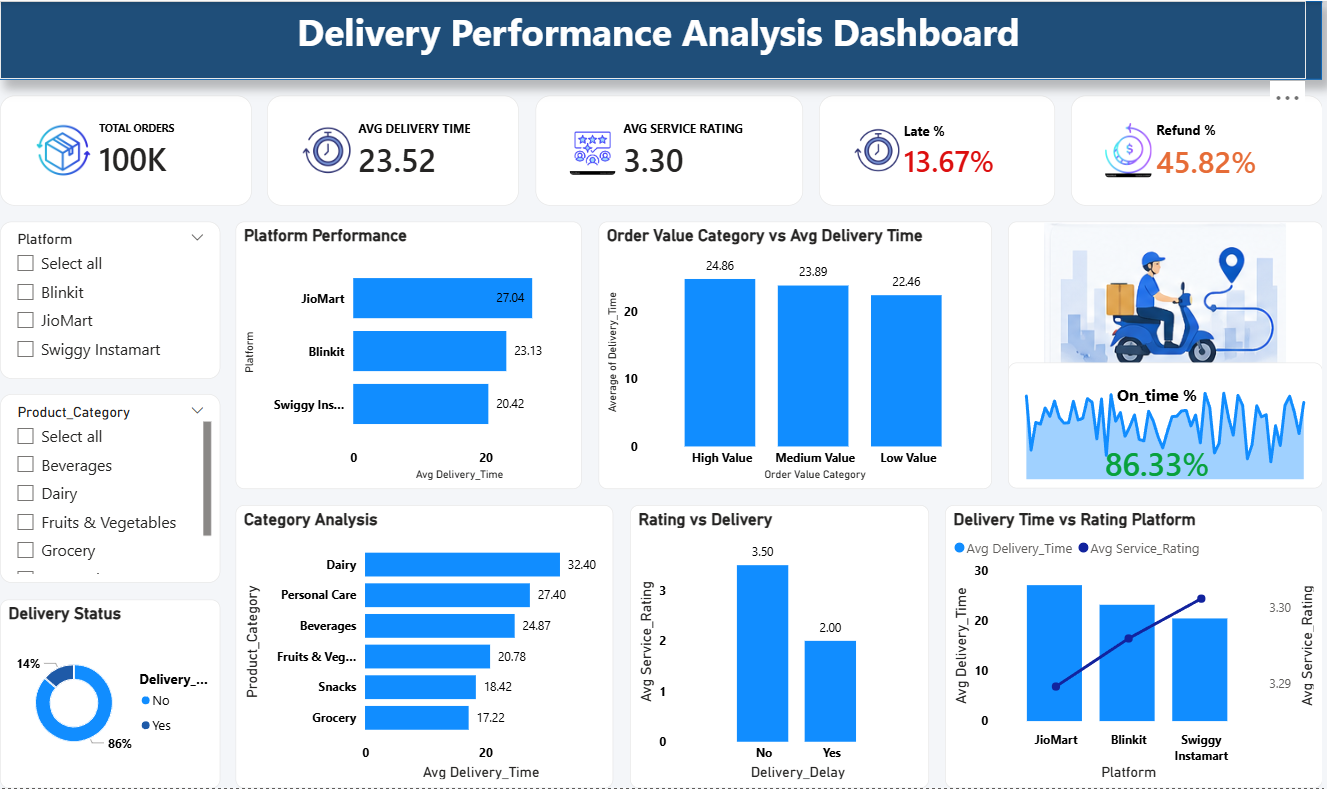

What the dashboard file says about the page in this screenshot:
{"tool":"powerbi","page":{"name":"Page 1","canvas":[1350,800],"ordinal":0},"visuals":[{"type":"cardVisual","fields":{"Data":["Count(cleaned_data_delivery.Order_ID)"]},"box":[0,96,256,112],"z":0},{"type":"cardVisual","fields":{"Data":["Avg(cleaned_data_delivery.Delivery_Time)"]},"box":[272,96,256,112],"z":1000},{"type":"cardVisual","fields":{"Data":["Avg(cleaned_data_delivery.Service_Rating)"]},"box":[544,96,272,112],"z":2000},{"type":"cardVisual","fields":{"Data":["cleaned_data_delivery.Late %"]},"box":[832,96,240,112],"z":3000},{"type":"cardVisual","fields":{"Data":["cleaned_data_delivery.Refund %"]},"box":[1088,96,256,112],"z":4000},{"type":"barChart","title":"Platform Performance","fields":{"Category":["cleaned_data_delivery.Platform"],"Y":["Avg(cleaned_data_delivery.Delivery_Time)"]},"box":[240,224,352,272],"z":5000},{"type":"donutChart","title":"Delivery Status","fields":{"Category":["cleaned_data_delivery.Delivery_Delay"],"Y":["Count(cleaned_data_delivery.Order_ID)"]},"box":[0,608,224,192],"z":6000},{"type":"barChart","title":"Category Analysis","fields":{"Category":["cleaned_data_delivery.Product_Category"],"Y":["Avg(cleaned_data_delivery.Delivery_Time)"]},"box":[240,512,384,288],"z":7000},{"type":"clusteredColumnChart","title":"Rating vs Delivery","fields":{"Category":["cleaned_data_delivery.Delivery_Delay"],"Y":["Avg(cleaned_data_delivery.Service_Rating)"]},"box":[640,512,304,288],"z":8000},{"type":"slicer","fields":{"Values":["cleaned_data_delivery.Platform"]},"box":[0,224,224,160],"z":9000},{"type":"slicer","fields":{"Values":["cleaned_data_delivery.Product_Category"]},"box":[0,400,224,192],"z":10000},{"type":"lineClusteredColumnComboChart","title":"Delivery Time vs Rating Platform","fields":{"Category":["cleaned_data_delivery.Platform"],"Y":["Avg(cleaned_data_delivery.Delivery_Time)"],"Y2":["Avg(cleaned_data_delivery.Service_Rating)"]},"box":[960,512,384,288],"z":12000},{"type":"image","box":[1024,224,320,160],"z":13000},{"type":"lineChart","fields":{"Y":["cleaned_data_delivery.On_time %"],"Category":["cleaned_data_delivery.Order_Date_and_Time"]},"box":[1024,368,320,128],"z":14000},{"type":"cardVisual","fields":{"Data":["cleaned_data_delivery.On_time %"]},"box":[1104,384,144,112],"z":15000},{"type":"shape","box":[0,0,1344,80],"z":16000},{"type":"textbox","box":[0,0,1328,80],"z":17000},{"type":"clusteredColumnChart","title":"Order Value Category vs Avg Delivery Time","fields":{"Y":["Avg(cleaned_data_delivery.Delivery_Time)"],"Category":["cleaned_data_delivery.Order Value Category"]},"box":[608,224,400,272],"z":17001}]}

Visuals, with their boxes in screenshot pixels (x1, y1, x2, y2), scaled from the page's 1350x800 canvas onto the 1327x789 screenshot:
cardVisual - Count(cleaned_data_delivery.Order_ID): select_region(0, 95, 252, 205)
cardVisual - Avg(cleaned_data_delivery.Delivery_Time): select_region(267, 95, 519, 205)
cardVisual - Avg(cleaned_data_delivery.Service_Rating): select_region(535, 95, 802, 205)
cardVisual - cleaned_data_delivery.Late %: select_region(818, 95, 1054, 205)
cardVisual - cleaned_data_delivery.Refund %: select_region(1069, 95, 1321, 205)
"Platform Performance" barChart: select_region(236, 221, 582, 489)
"Delivery Status" donutChart: select_region(0, 600, 220, 788)
"Category Analysis" barChart: select_region(236, 505, 613, 788)
"Rating vs Delivery" clusteredColumnChart: select_region(629, 505, 928, 788)
slicer - cleaned_data_delivery.Platform: select_region(0, 221, 220, 379)
slicer - cleaned_data_delivery.Product_Category: select_region(0, 394, 220, 584)
"Delivery Time vs Rating Platform" lineClusteredColumnComboChart: select_region(944, 505, 1321, 788)
image: select_region(1007, 221, 1321, 379)
lineChart - cleaned_data_delivery.On_time % x cleaned_data_delivery.Order_Date_and_Time: select_region(1007, 363, 1321, 489)
cardVisual - cleaned_data_delivery.On_time %: select_region(1085, 379, 1227, 489)
shape: select_region(0, 0, 1321, 79)
textbox: select_region(0, 0, 1305, 79)
"Order Value Category vs Avg Delivery Time" clusteredColumnChart: select_region(598, 221, 991, 489)
